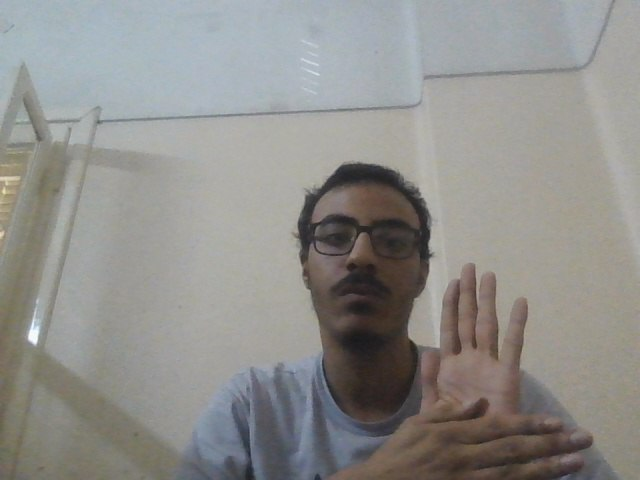Movie: (378, 262, 599, 480)
